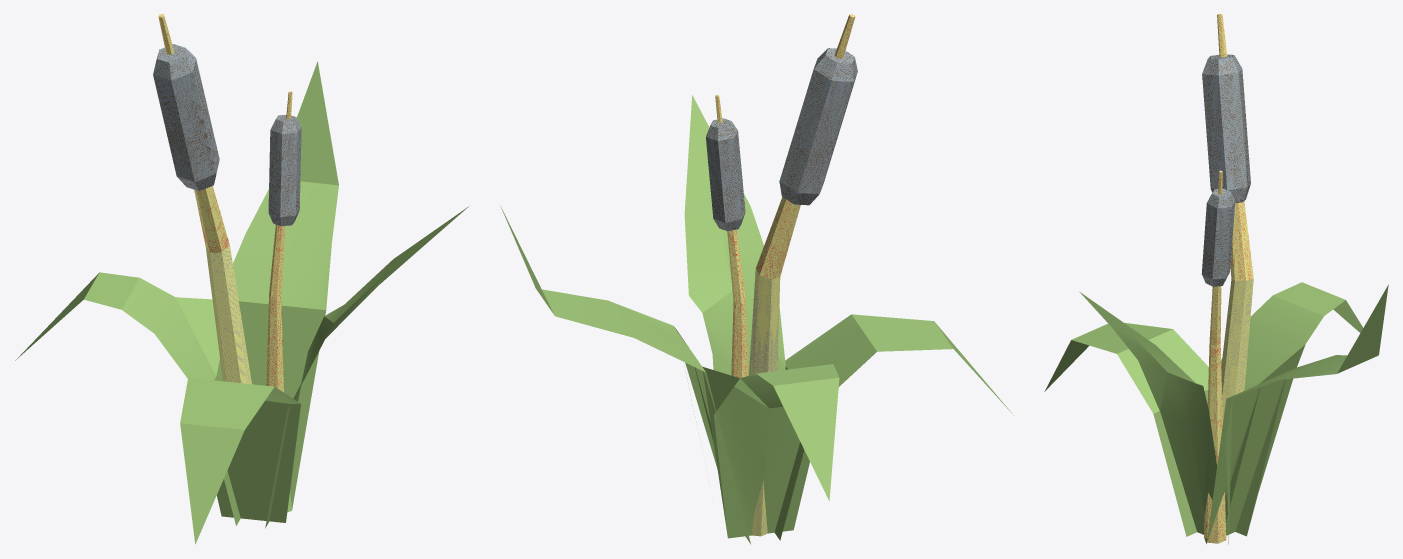
File: Reeds_01.fbx
3 views of the same model, side by side, from view 1: azimuth 30°, elevation 25°; view 2: azimuth 150°, elevation 25°; view 3: azimuth 270°, elevation 25° (orthographic). The views are drawn at different scales.
Parts seen in each view (by area): view 1: Model; view 2: Model; view 3: Model.
Boxes of the visible parts, x1,y1,x2,y2 form: Model: (15, 14, 468, 544); Model: (500, 14, 1012, 543); Model: (1044, 14, 1388, 544).
Size of the model in its own units: 92.73 by 148 by 97.27.
